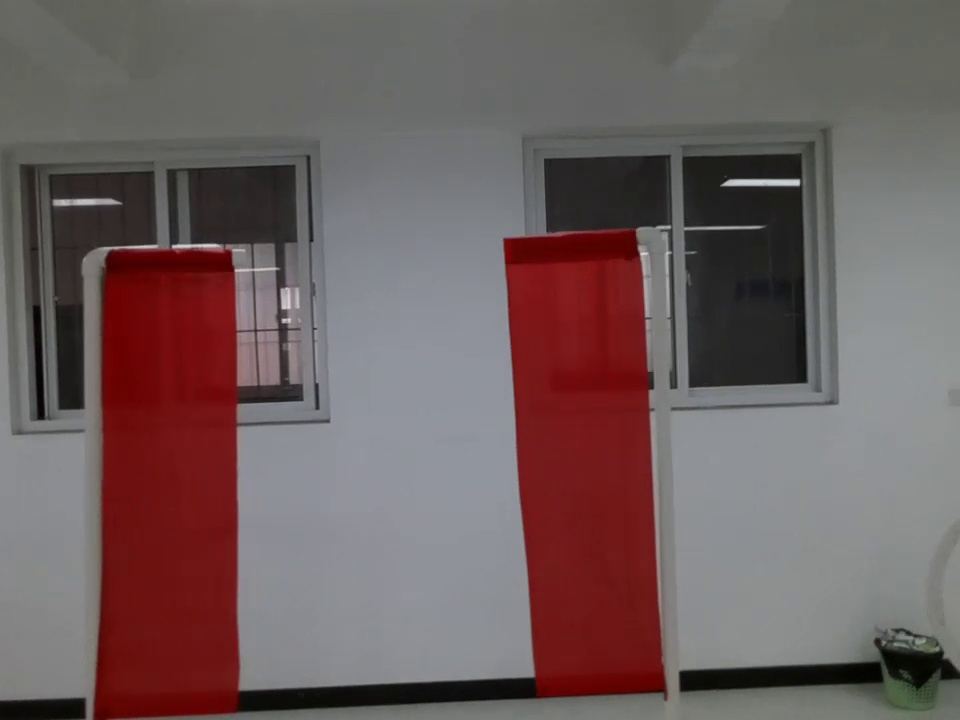qi: (500, 229, 683, 719), (76, 243, 250, 720)
